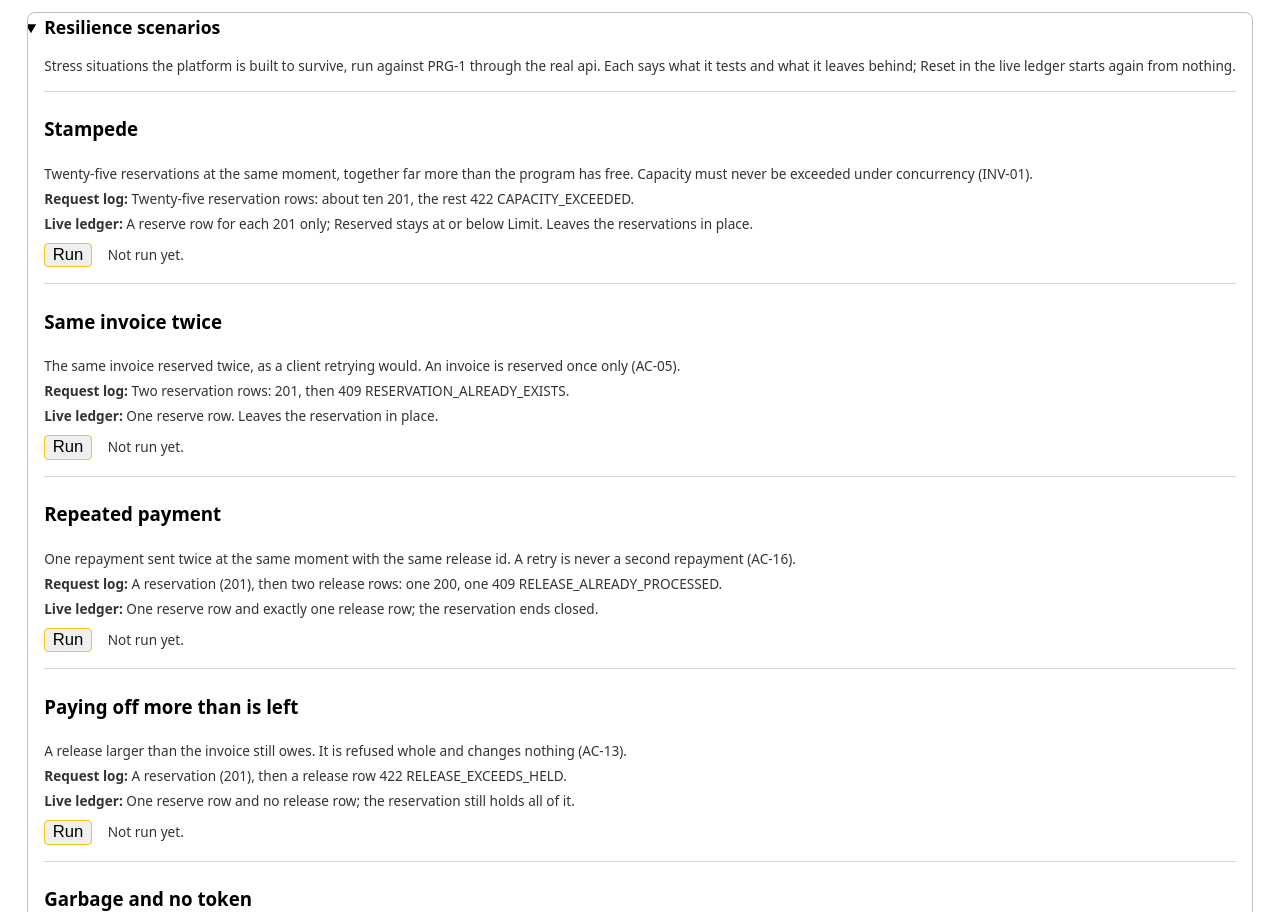
Test: ResilienceScenarios › should fail the stampede when the program ends above its limit
Step 1. Click the button "Run" below "Stampede" → click(68, 255), box 44,242 -> 92,267
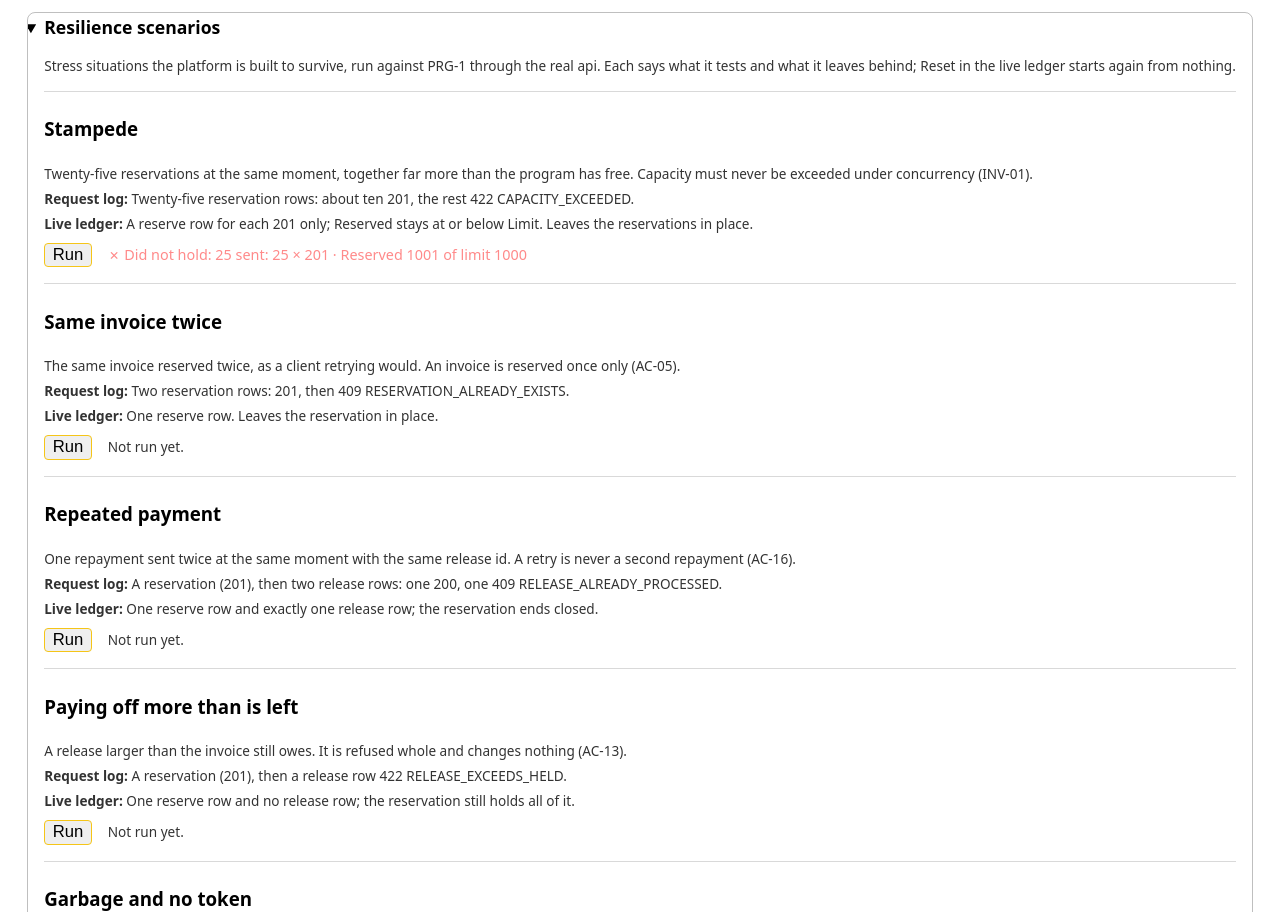
Expected: the text with test id "outcome" shows "✗", 108,245 -> 527,264
